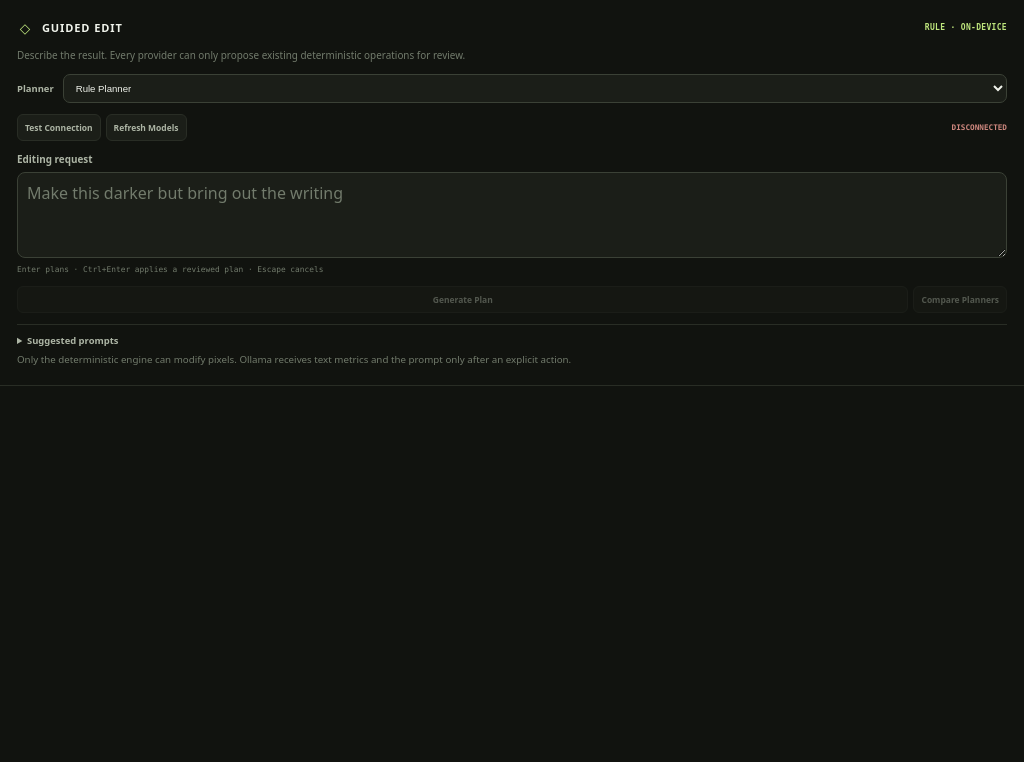
Test: GuidedEditPanel › shows heuristic confidence and warnings when enabled
The width and height of the screenshot is (1024, 762).
Type "Reduce noise" into the text box labelled "Editing request" at [512, 215], box [17,172,1007,258]
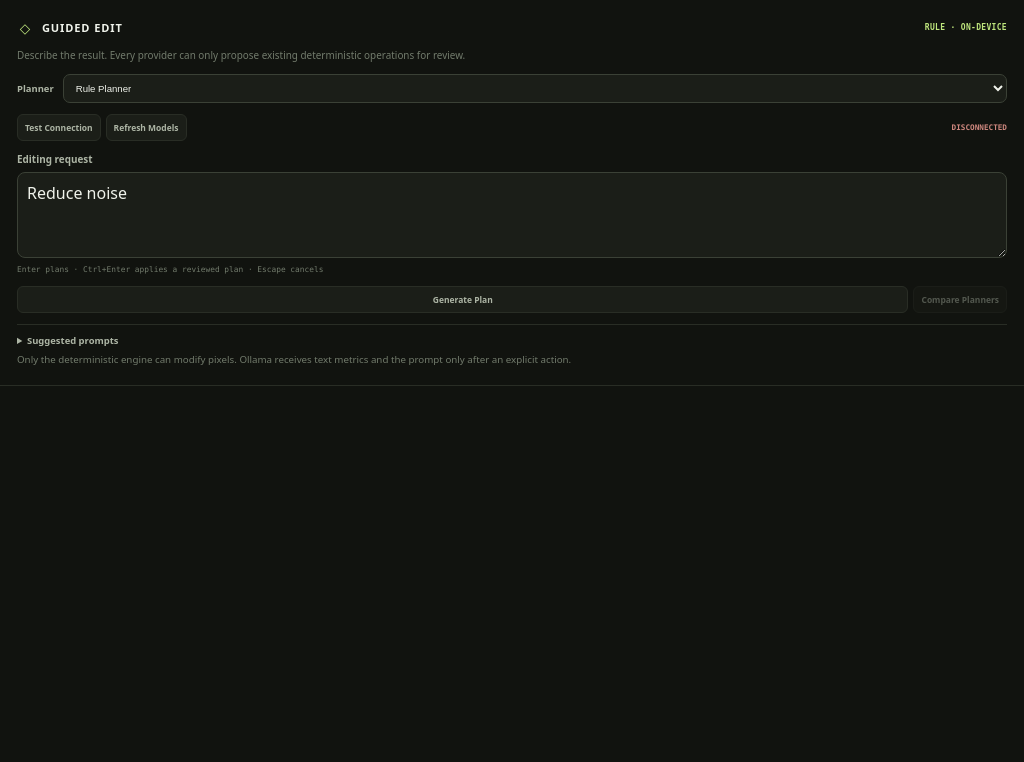
Click the button "Generate Plan" at [463, 300], box [17,286,908,313]
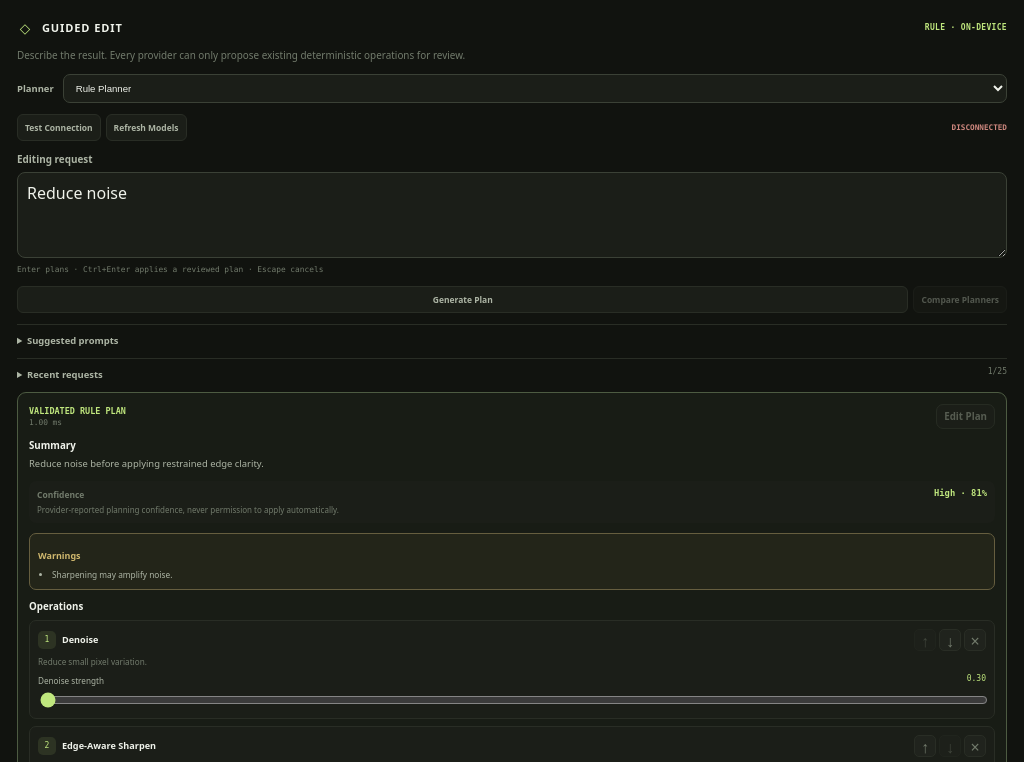
Result: the text "High · 81%" is shown at [934,489,987,500]
Result: the text "never permission to apply automatically" is shown at [37,504,339,515]
Result: the list item "Sharpening may amplify noise." is shown at [52,569,172,580]
